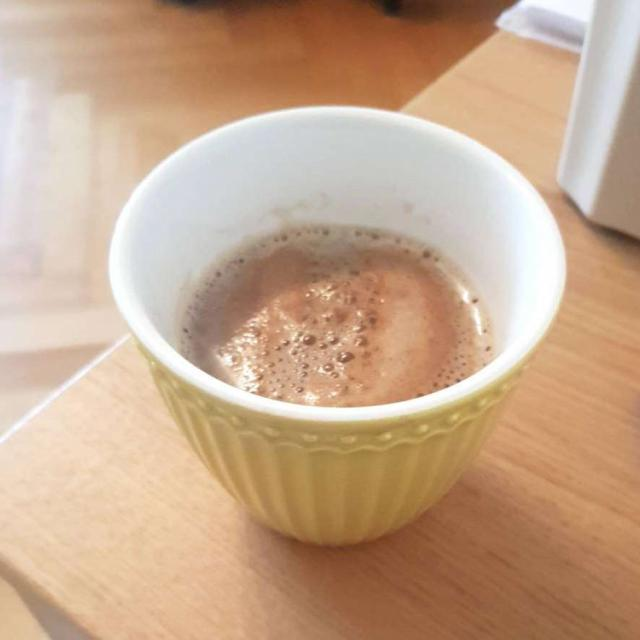coffee-with-caffeine: (195, 242, 487, 404)
